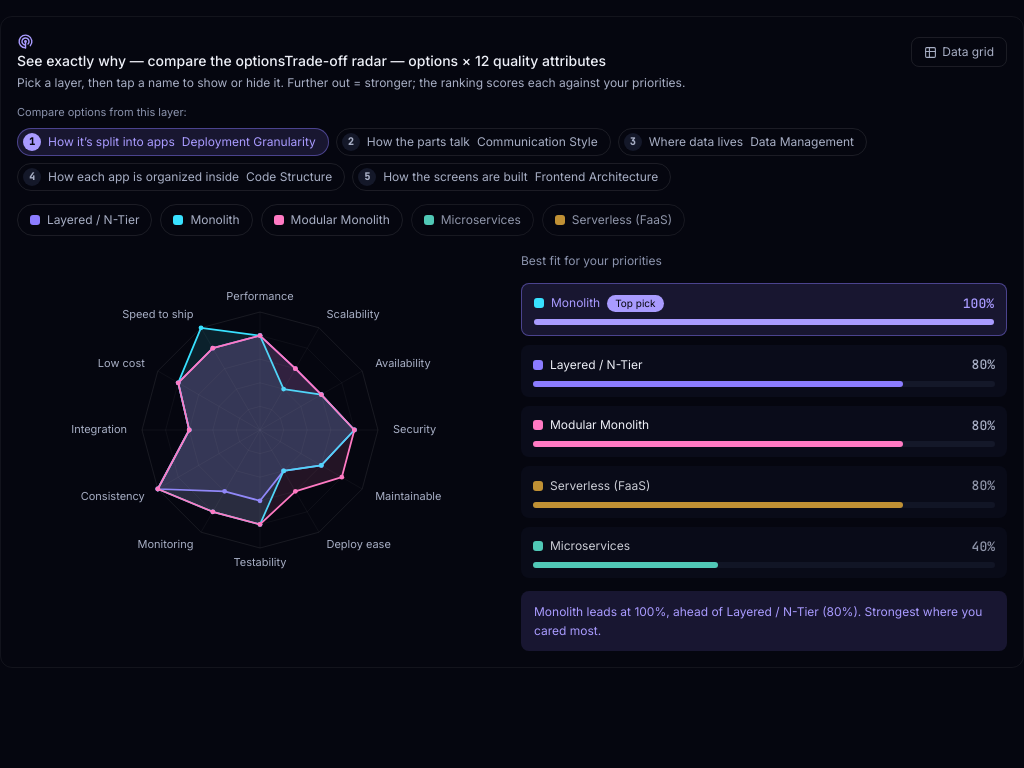
Test: RadarPanel (AC-12) › switching the dimension shows that dimension’s options
Expected: the button "Streaming" is not shown
Click the button "2 How the parts talk Communication Style" at (418, 141), box [336, 128, 611, 156]
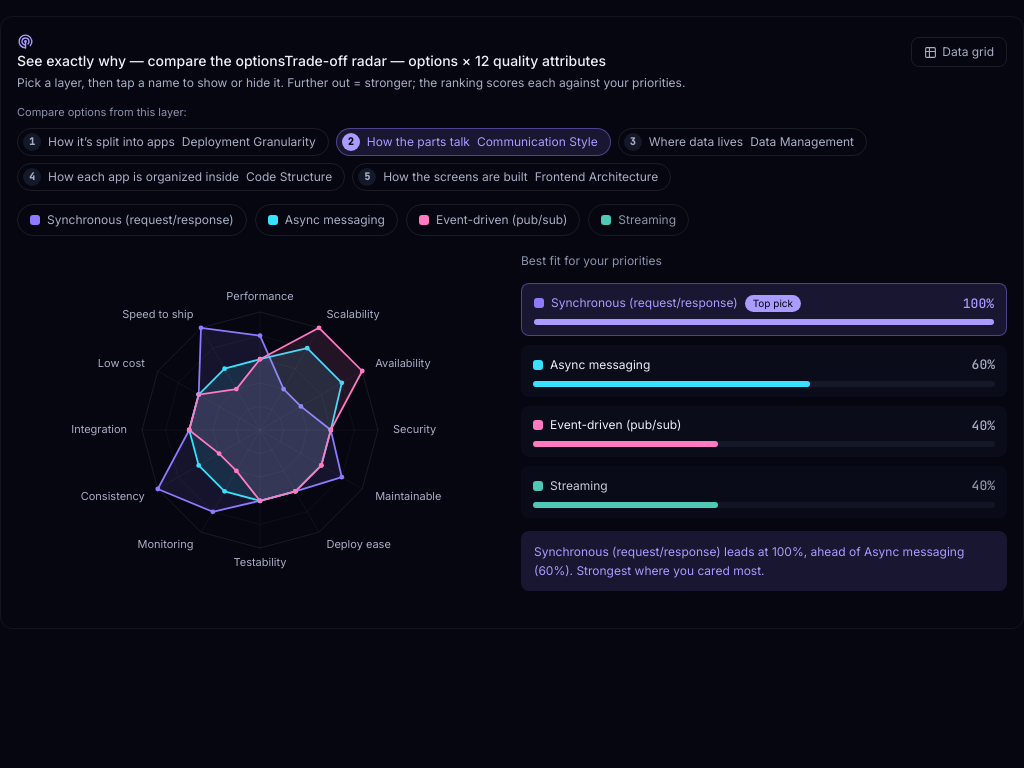
Expected: the button "Streaming" is shown, [588, 204, 689, 236]
Expected: the button "Monolith" is gone
